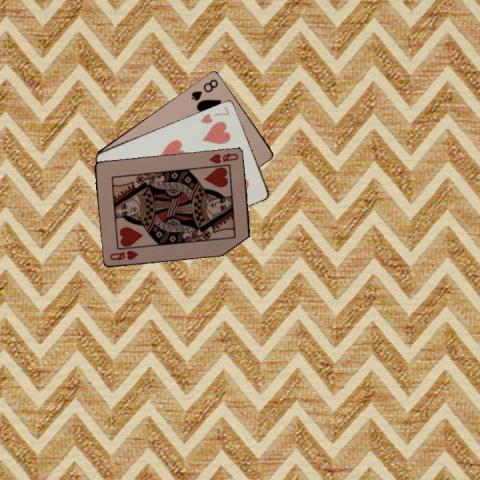7h: (197, 103, 231, 125)
8s: (188, 75, 219, 102)
Qh: (205, 150, 240, 165), (107, 247, 139, 261)
